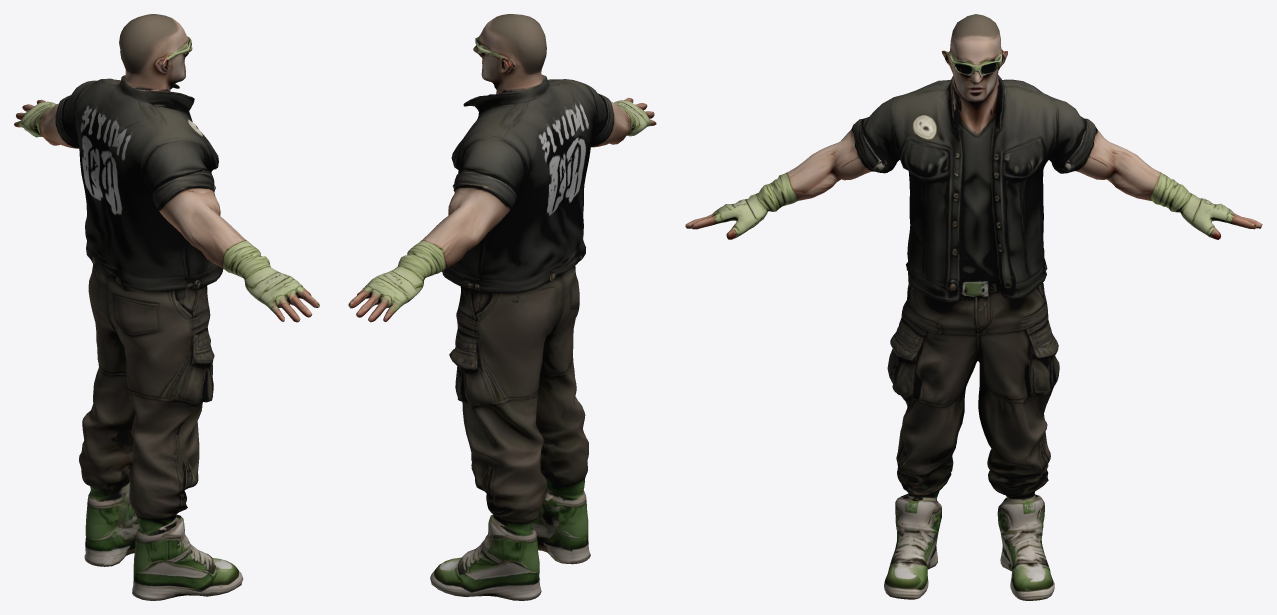
File: muscular+action+figure+3d+modellow.fbx
The picture shows the model from 3 angles, left to right: view 1: azimuth 30°, elevation 25°; view 2: azimuth 150°, elevation 25°; view 3: azimuth 270°, elevation 25°; orthographic projection.
Visible parts, largest first — view 1: tripo_node_1cebe27f; view 2: tripo_node_1cebe27f; view 3: tripo_node_1cebe27f.
Part boxes in pixels (x1,y1,x2,y2): tripo_node_1cebe27f: [14, 14, 319, 600]; tripo_node_1cebe27f: [348, 14, 656, 600]; tripo_node_1cebe27f: [685, 14, 1262, 600].
Bounding box in the file's own units: 0.205 × 0.9991 × 0.9315.
Materials: 1 (1 with a texture image).
